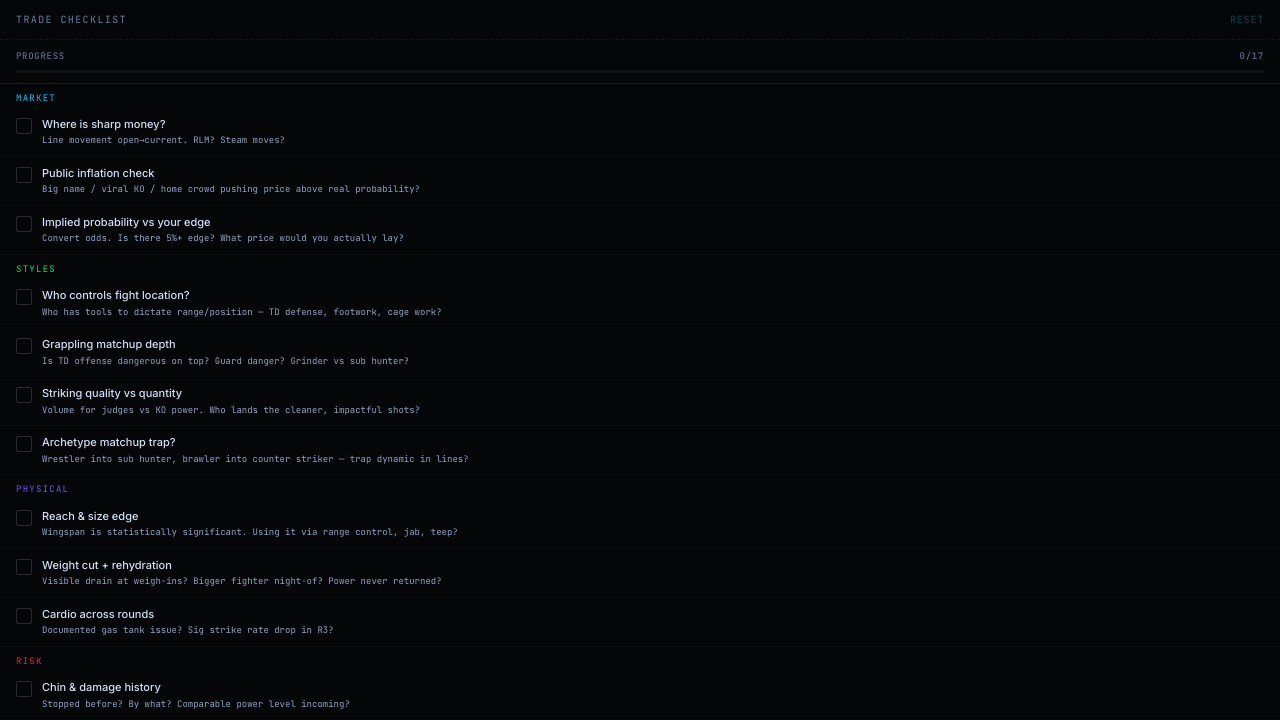
Test case: ChecklistPanel › toggles item back to unchecked on second click
The width and height of the screenshot is (1280, 720).
Click the checkbox "Where is sharp money?": point(640, 132) [0,108,1279,157]
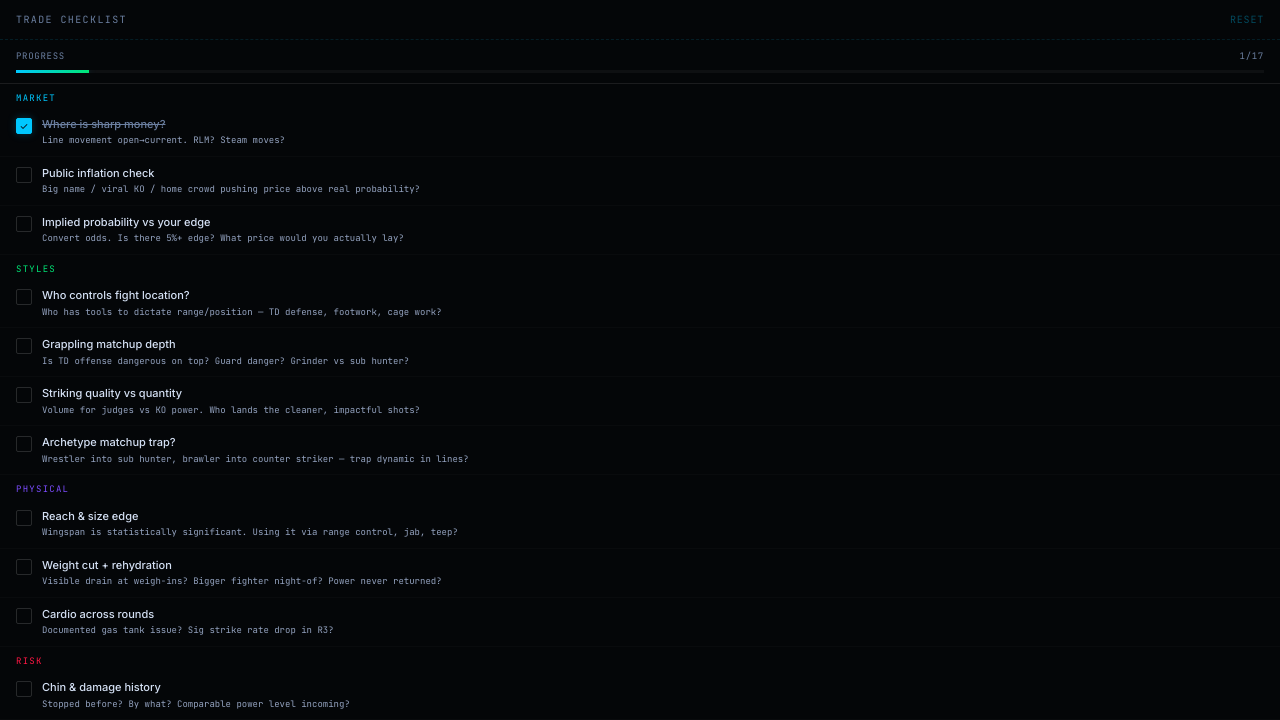
Click the checkbox "Where is sharp money?": point(640, 132) [0,108,1279,157]
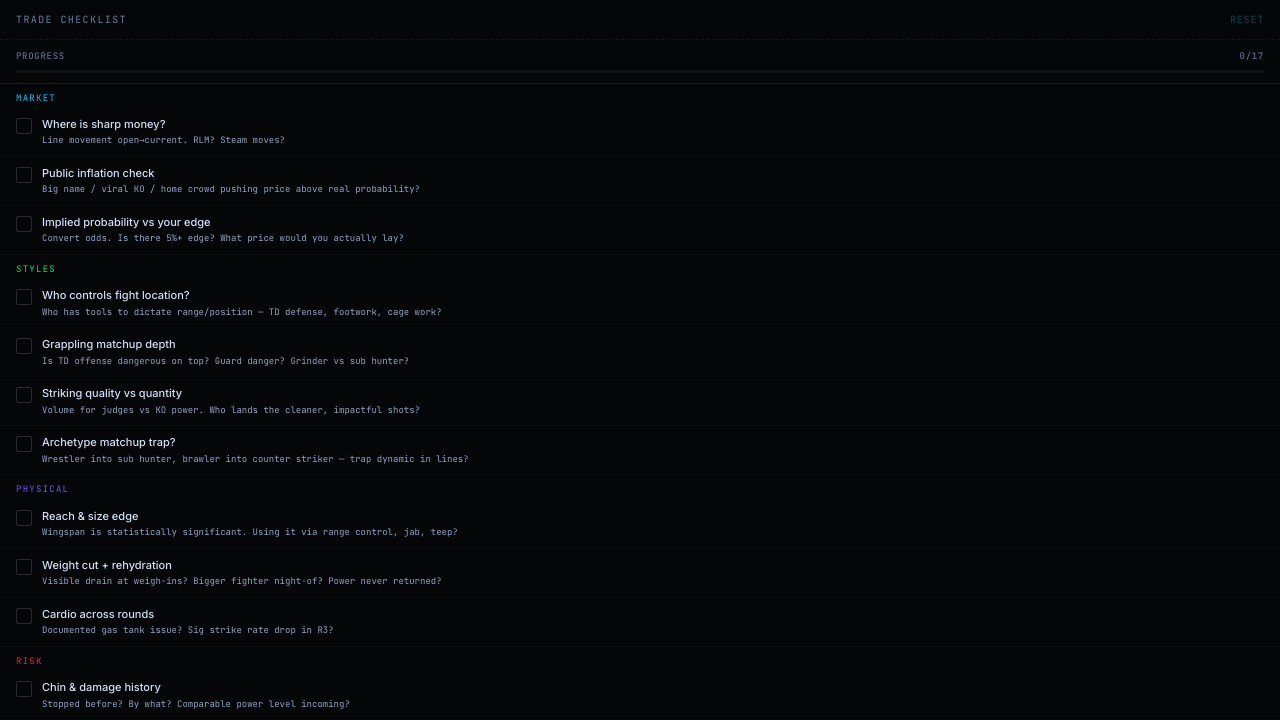
expect the text "0/17" is shown: met, box [1240,50,1264,64]
